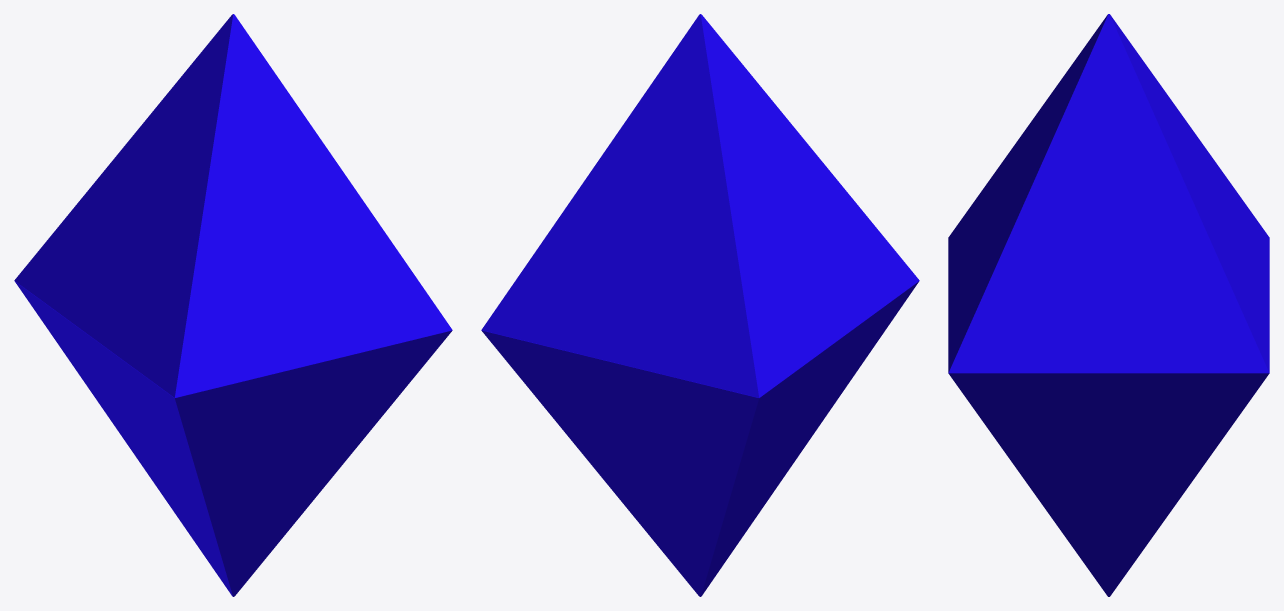
File: Dia.gltf
3 renders of one model, left to right at view 1: azimuth 30°, elevation 25°; view 2: azimuth 150°, elevation 25°; view 3: azimuth 270°, elevation 25°, orthographic.
Parts seen in each view (by area): view 1: Cube; view 2: Cube; view 3: Cube.
Boxes of the visible parts, bbox=[...] form: Cube: bbox=[14, 14, 452, 596]; Cube: bbox=[481, 14, 919, 596]; Cube: bbox=[948, 14, 1269, 596].
Size of the model in its own units: 2 by 4 by 2.
